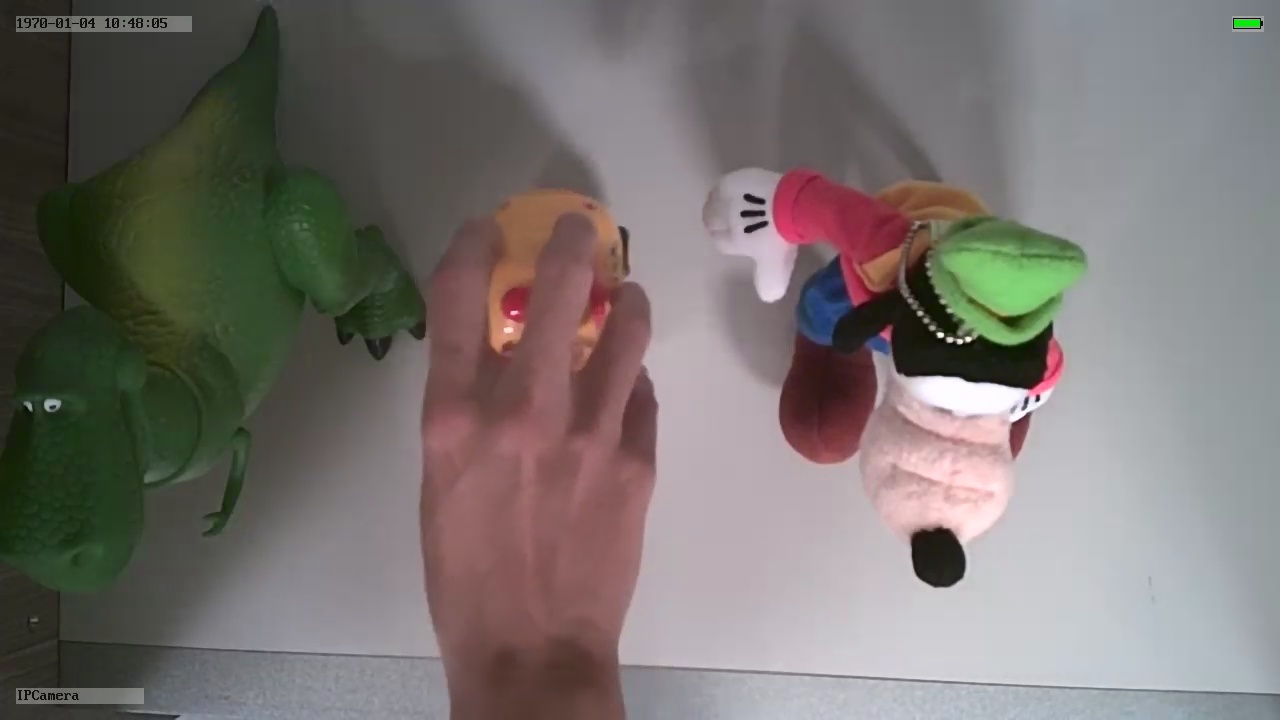goofy: (693, 161, 1093, 590)
rex: (1, 90, 427, 596)
